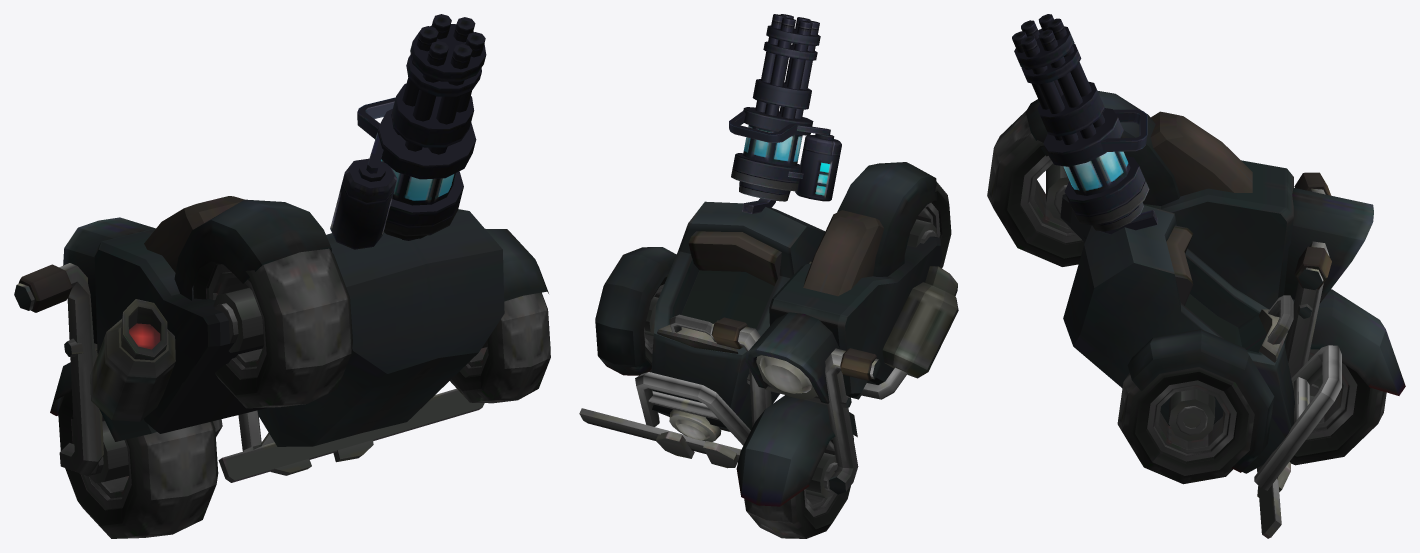
3 views of the same model, side by side, from view 1: azimuth 30°, elevation 25°; view 2: azimuth 150°, elevation 25°; view 3: azimuth 270°, elevation 25° (orthographic). The views are drawn at different scales.
Visible parts, largest first — view 1: part4, part1, obj_gatlinggun, part7, part3, part2, part6, part5; view 2: part1, part4, obj_gatlinggun, part2, part5, part3, part7, part6; view 3: part4, part1, obj_gatlinggun, part6, part2, part7, part5, part3.
Boxes of the visible parts, x1,y1,x2,y2 form: part4: (218,209,504,482); part1: (50,196,331,441); obj_gatlinggun: (330,14,486,249); part7: (193,248,352,408); part3: (58,391,218,538); part2: (14,217,222,476); part6: (450,292,550,403); part5: (485,228,548,301); part1: (736,162,958,506); part4: (579,201,825,468); obj_gatlinggun: (729,14,841,213); part2: (710,312,880,494); part5: (595,247,676,375); part3: (744,435,853,538); part7: (907,181,951,268); part6: (643,274,668,372); part4: (1063,205,1341,538); part1: (1025,91,1405,395); obj_gatlinggun: (1012,14,1157,234); part6: (1117,367,1254,484); part2: (1284,172,1373,402); part7: (987,111,1084,266); part5: (1127,329,1274,472); part3: (1289,349,1386,465).
Size of the model in its own units: 1.84 by 2.27 by 1.71.
Materials: 2 (2 with a texture image).
